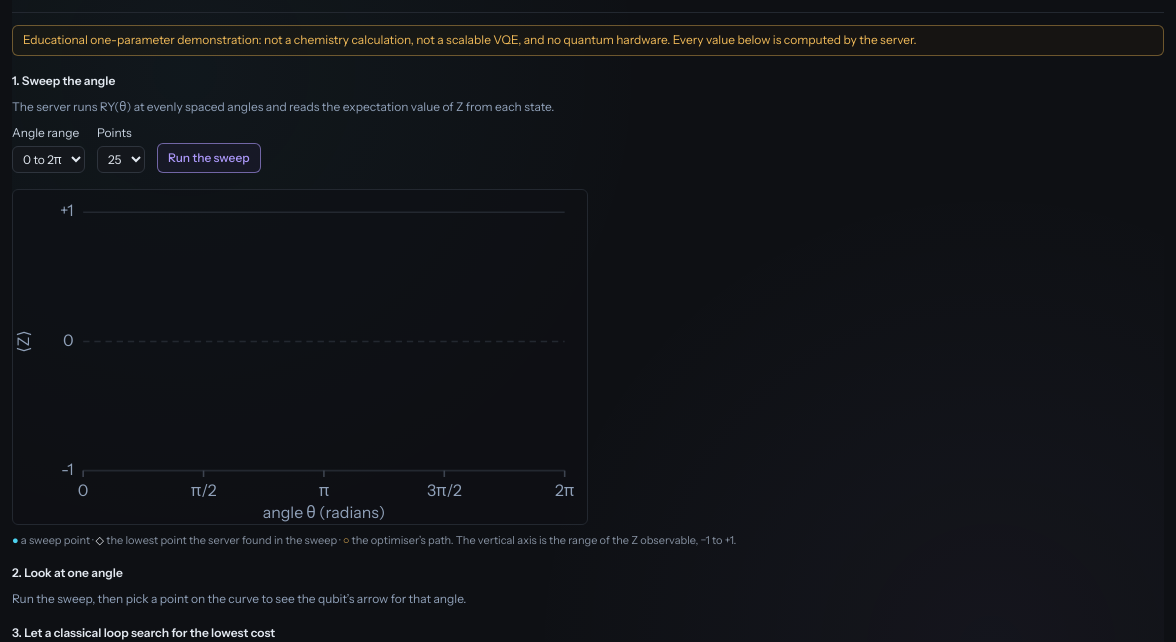
Scenario: the sweep › asks for an angle range and a point count only, then draws the server’s points
Click the button "Run the sweep" at (209, 158), box [157, 142, 261, 172]
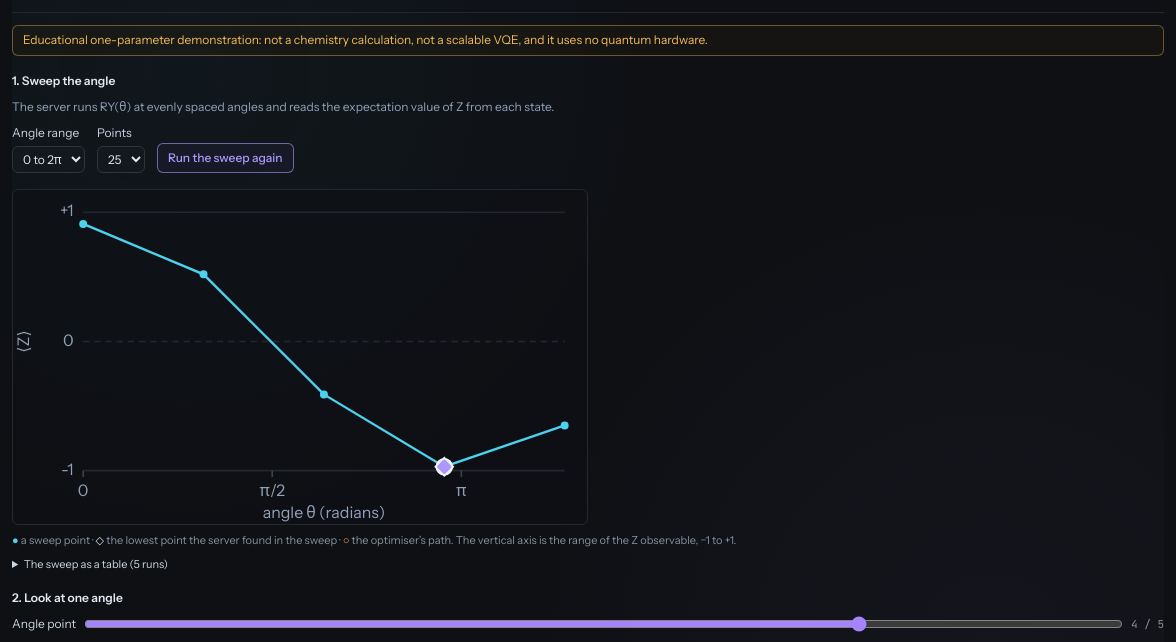
Expected: the text "lowest point the server found" is shown, [104, 533, 340, 547]
Result: the text with test id "variational-label" shows "Educational one-parameter demonstration: not a chemistry calculation, not a scalable VQE, and it uses no quantum hardware." at [23, 32, 708, 47]
